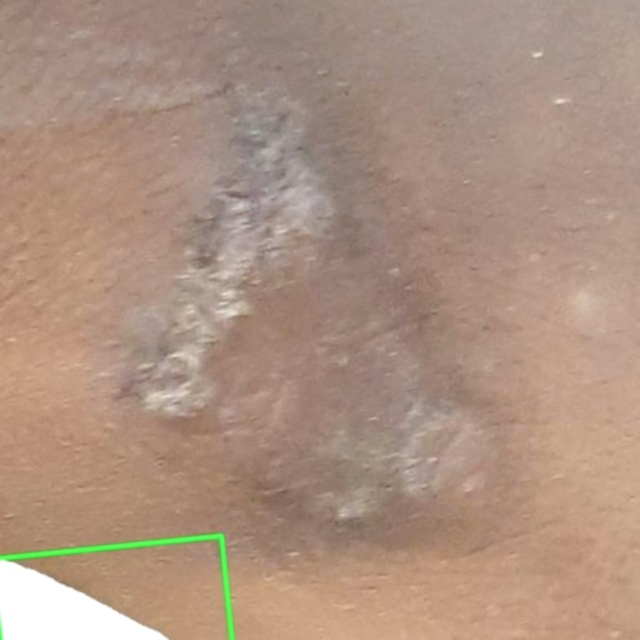Contact Dermatitis: (0, 535, 232, 639)
